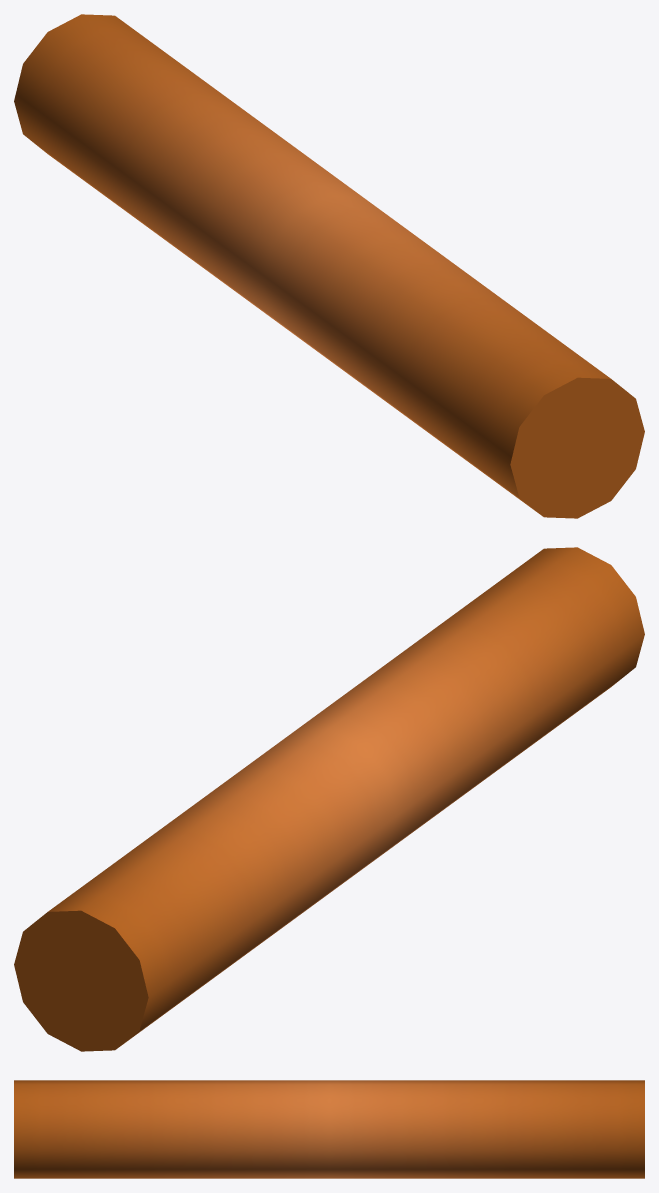
The model's file is pipebase_001.fbx.
The picture shows the model from 3 angles, top to bottom: view 1: azimuth 30°, elevation 25°; view 2: azimuth 150°, elevation 25°; view 3: azimuth 270°, elevation 25°; orthographic projection. The views are drawn at different scales.
Visible parts, largest first — view 1: pipebase_001; view 2: pipebase_001; view 3: pipebase_001.
Boxes of the visible parts, x1,y1,x2,y2 form: pipebase_001: [14, 14, 644, 518]; pipebase_001: [14, 547, 644, 1051]; pipebase_001: [14, 1080, 644, 1178].
Bounding box in the file's own units: 157 × 1000 × 157.
